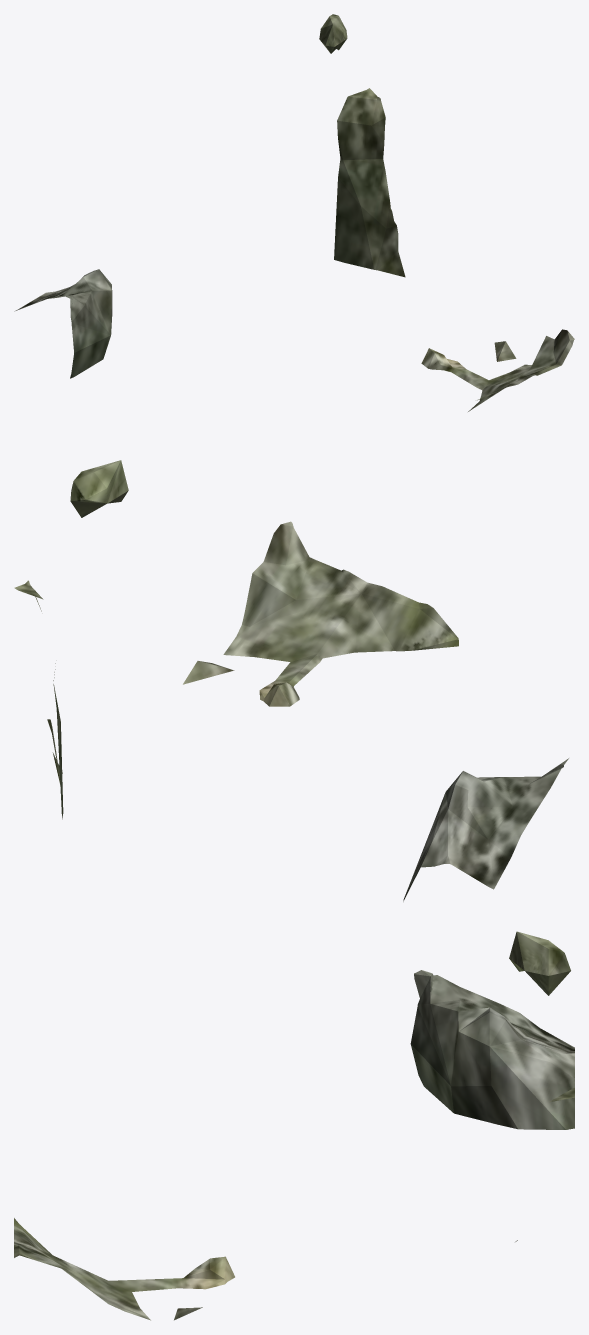
The picture shows the model from 3 angles, top to bottom: view 1: azimuth 30°, elevation 25°; view 2: azimuth 150°, elevation 25°; view 3: azimuth 270°, elevation 25°; orthographic projection. The views are drawn at different scales.
Bounding box in the file's own units: 2.95 × 2.03 × 2.95.
1 material, 1 textured.
